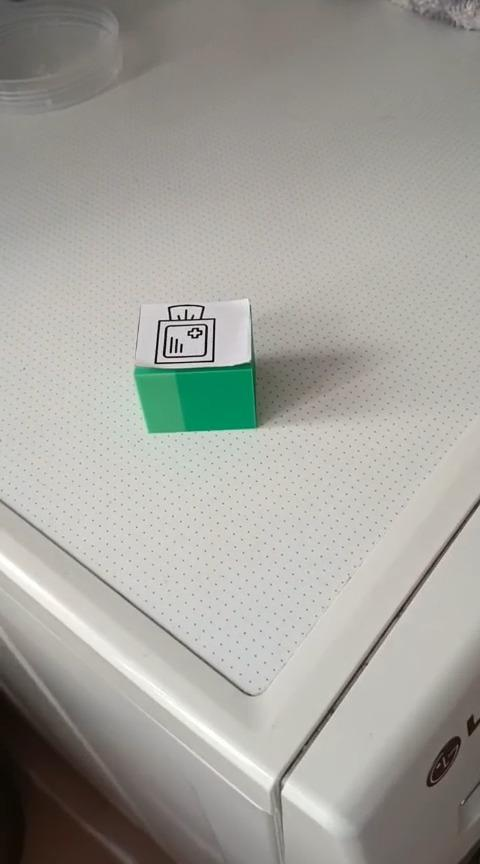Gauze: (131, 296, 258, 434)
